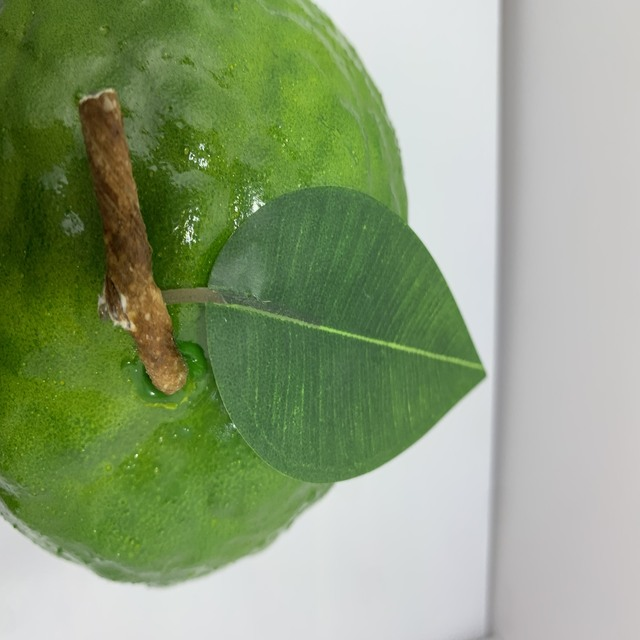Cam xanh: (0, 0, 416, 593)
